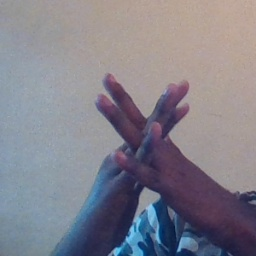W: (81, 62, 214, 220)
